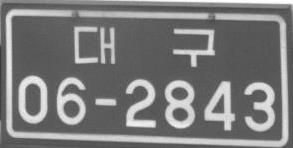0: (18, 74, 48, 123)
2: (125, 77, 156, 127)
3: (244, 80, 275, 132)
4: (204, 80, 235, 131)
6: (56, 75, 86, 125)
8: (164, 79, 195, 129)
대구_D: (73, 24, 216, 68)
